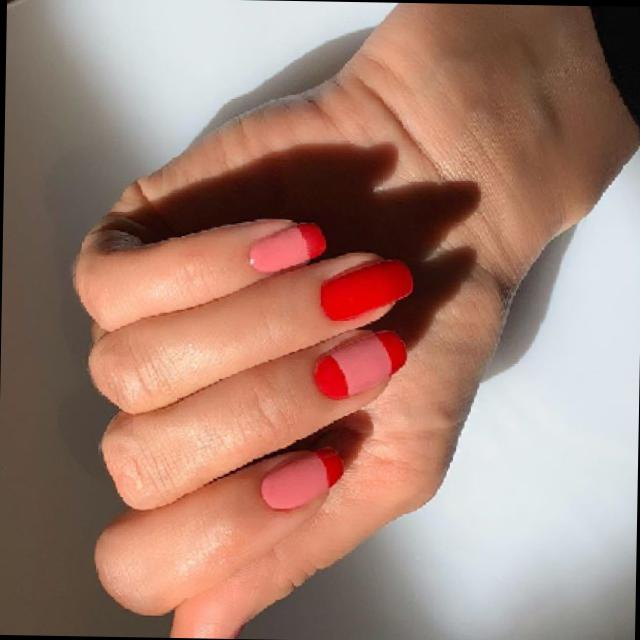Nail: (313, 329, 406, 399), (319, 259, 411, 320), (259, 448, 343, 508), (247, 222, 324, 272)
